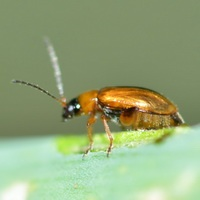insect: (12, 38, 184, 156)
